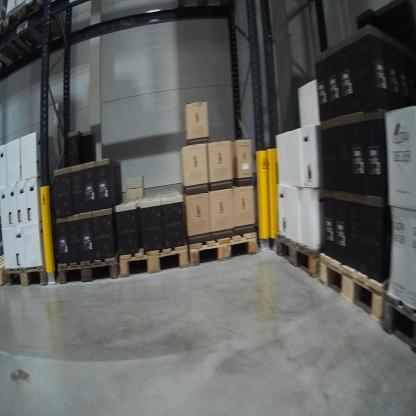pallet: (314, 242, 389, 332), (189, 222, 262, 275), (4, 4, 68, 60), (52, 244, 128, 288), (117, 238, 191, 277), (276, 229, 324, 285), (1, 13, 40, 75), (3, 250, 59, 292), (381, 294, 415, 352), (174, 1, 234, 16), (1, 249, 21, 288)
